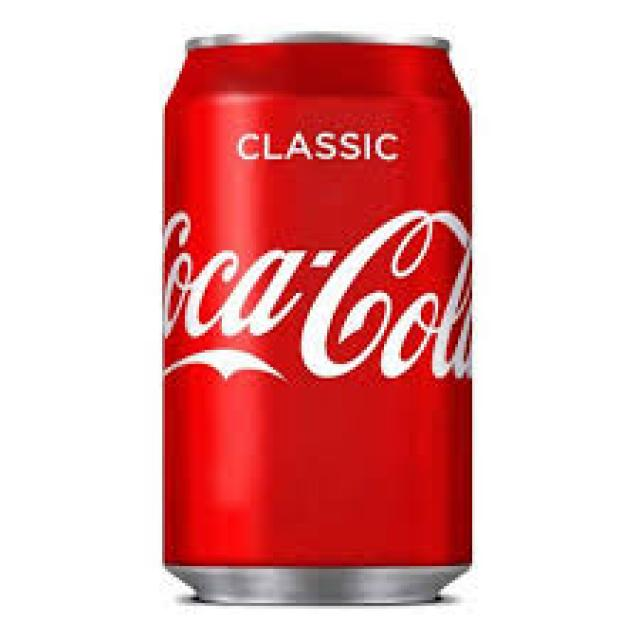aluminum_can: (165, 34, 472, 606)
